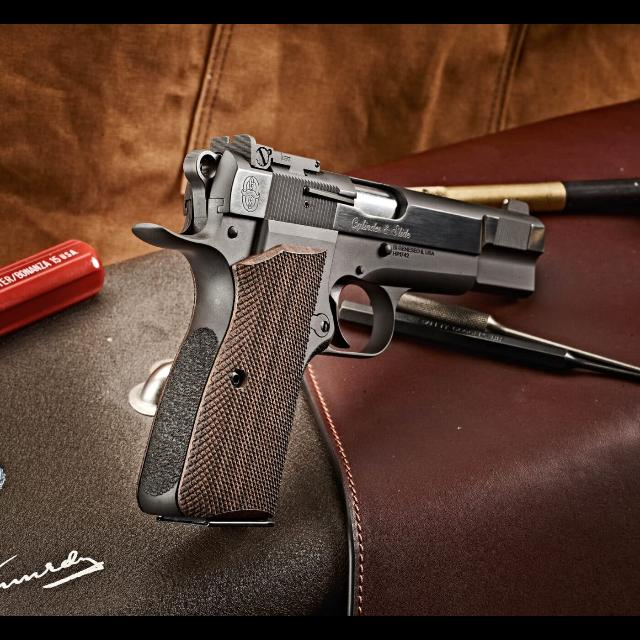handgun: (123, 127, 553, 538)
